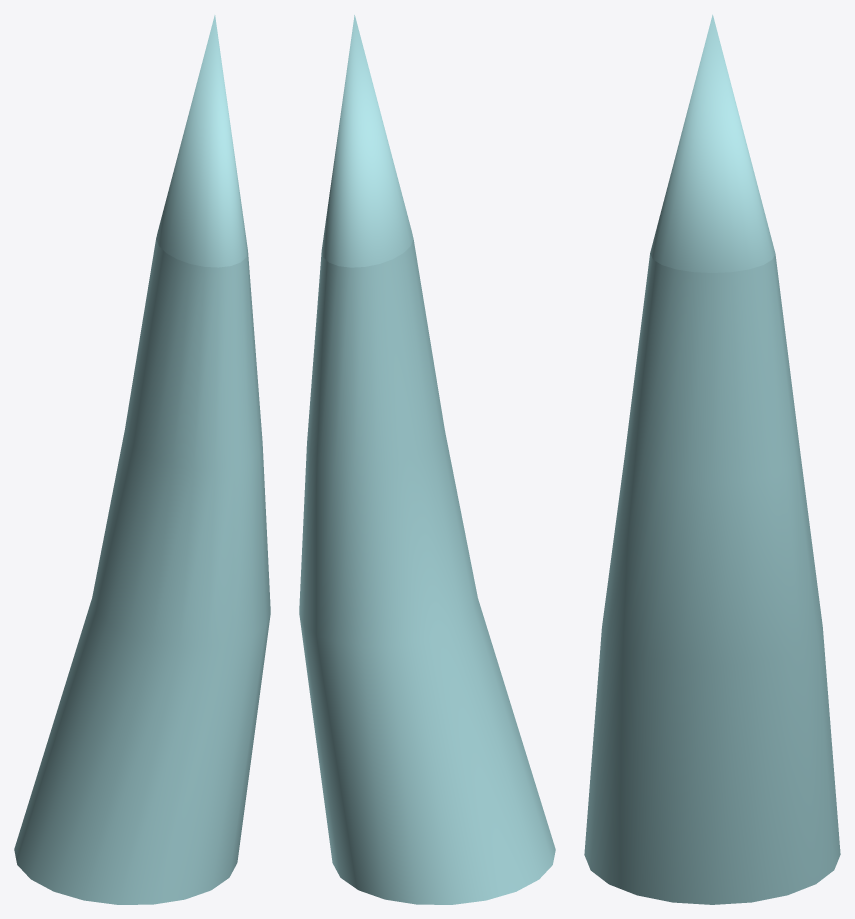
File: Icicle_01.fbx
3 renders of one model, left to right at view 1: azimuth 30°, elevation 25°; view 2: azimuth 150°, elevation 25°; view 3: azimuth 270°, elevation 25°, orthographic. The views are drawn at different scales.
Parts seen in each view (by area): view 1: pCylinder3; view 2: pCylinder3; view 3: pCylinder3.
Part boxes in pixels (x1=…): pCylinder3: x1=14, y1=15, x2=270, y2=904; pCylinder3: x1=299, y1=15, x2=555, y2=904; pCylinder3: x1=584, y1=14, x2=840, y2=904.
Bounding box in the file's own units: 516 × 1806 × 472.
